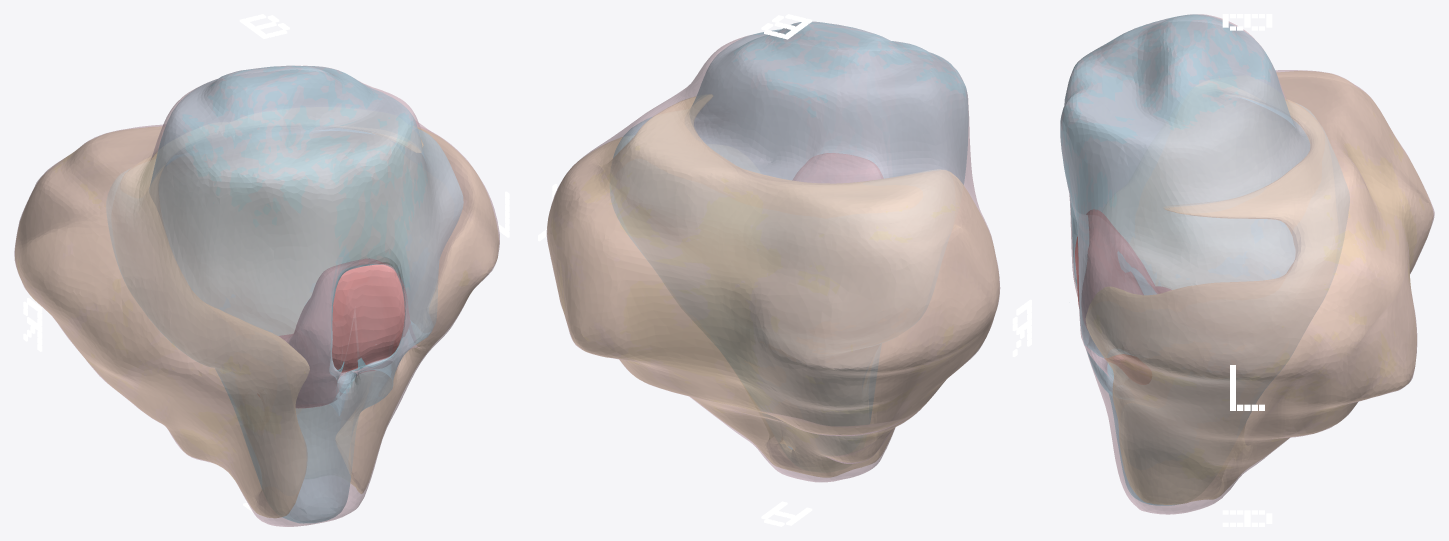
3 views of the same model, side by side, from view 1: azimuth 30°, elevation 25°; view 2: azimuth 150°, elevation 25°; view 3: azimuth 270°, elevation 25° (orthographic). The views are drawn at different scales.
Visible parts, largest first — view 1: prostate_gland, transition_zone, peripheral_zone, lesion_01, pv_ar_marker_B, pv_ar_marker_R; view 2: prostate_gland, peripheral_zone, transition_zone, lesion_01, pv_ar_marker_B, pv_ar_marker_R; view 3: prostate_gland, peripheral_zone, transition_zone, lesion_01, pv_ar_marker_B, pv_ar_marker_A, pv_ar_marker_L.
Boxes of the visible parts, x1,y1,x2,y2 form: prostate_gland: (14, 65, 499, 526); transition_zone: (106, 65, 463, 523); peripheral_zone: (15, 126, 498, 517); lesion_01: (279, 258, 415, 408); pv_ar_marker_B: (239, 14, 289, 38); pv_ar_marker_R: (23, 298, 42, 351); prostate_gland: (546, 21, 1000, 482); peripheral_zone: (547, 94, 999, 477); transition_zone: (610, 21, 968, 449); lesion_01: (793, 153, 883, 183); pv_ar_marker_B: (761, 14, 812, 39); pv_ar_marker_R: (1012, 299, 1031, 356); prostate_gland: (1060, 14, 1434, 514); peripheral_zone: (1086, 71, 1433, 504); transition_zone: (1060, 14, 1349, 505); lesion_01: (1075, 209, 1170, 384); pv_ar_marker_B: (1222, 14, 1272, 30); pv_ar_marker_A: (1222, 510, 1272, 526); pv_ar_marker_L: (1230, 365, 1264, 410).
Bounding box in the file's own units: 0.0636 × 0.0625 × 0.0426.
